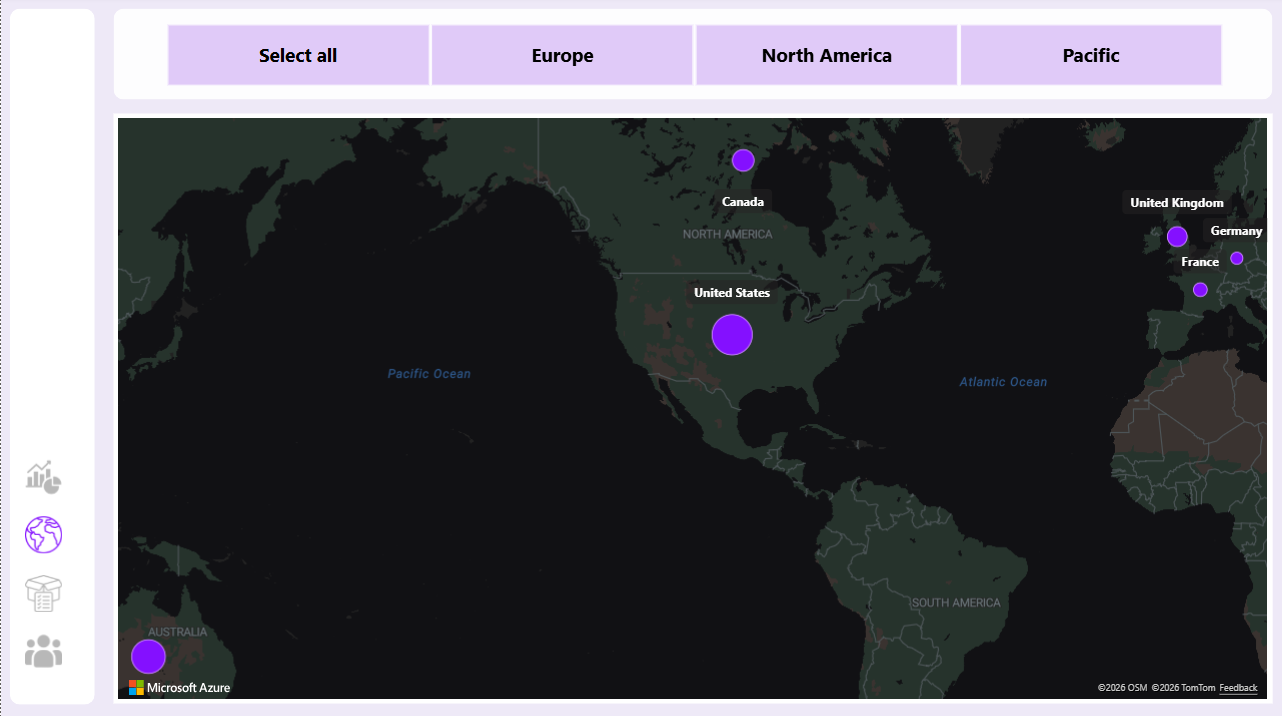

The dashboard page shown, as its layout file describes it:
{"tool":"powerbi","page":{"name":"Map","canvas":[1280,720],"ordinal":1},"visuals":[{"type":"shape","box":[112.1,12.5,1153.3,90.8],"z":0},{"type":"actionButton","box":[20.6,455.9,44.7,44.7],"z":0,"group":"g1"},{"type":"shape","title":"Nav Shape","box":[8.7,12.4,84.6,692.9],"z":1000},{"type":"actionButton","box":[20.5,513.4,45,45],"z":1000,"group":"g1"},{"type":"slicer","fields":{"Values":["Territory Lookup.Continent"]},"box":[138.8,21.4,1099.9,74.8],"z":2000},{"type":"actionButton","box":[20.5,571.2,45,45],"z":2000,"group":"g1"},{"type":"azureMap","fields":{"Category":["Territory Lookup.Country"],"Size":["Measure table.Total Orders"]},"box":[112.1,117.5,1153.3,587.3],"z":3000},{"type":"actionButton","box":[20.5,629,45,45],"z":3000,"group":"g1"},{"type":"group","id":"g1","title":"Nav Buttons","box":[20.5,455.9,45,218.1],"z":4000}]}

Visuals, with their boxes on the page's 1280x720 design canvas (x1, y1, x2, y2). These are canvas units, not pixel positions in the 1282x716 screenshot, which may show the page scaled, cropped or inside an application window:
shape: 112,12,1265,103
actionButton: 21,456,65,501
"Nav Shape" shape: 9,12,93,705
actionButton: 20,513,66,558
slicer - Territory Lookup.Continent: 139,21,1239,96
actionButton: 20,571,66,616
azureMap - Territory Lookup.Country x Measure table.Total Orders: 112,118,1265,705
actionButton: 20,629,66,674
"Nav Buttons" group: 20,456,66,674
